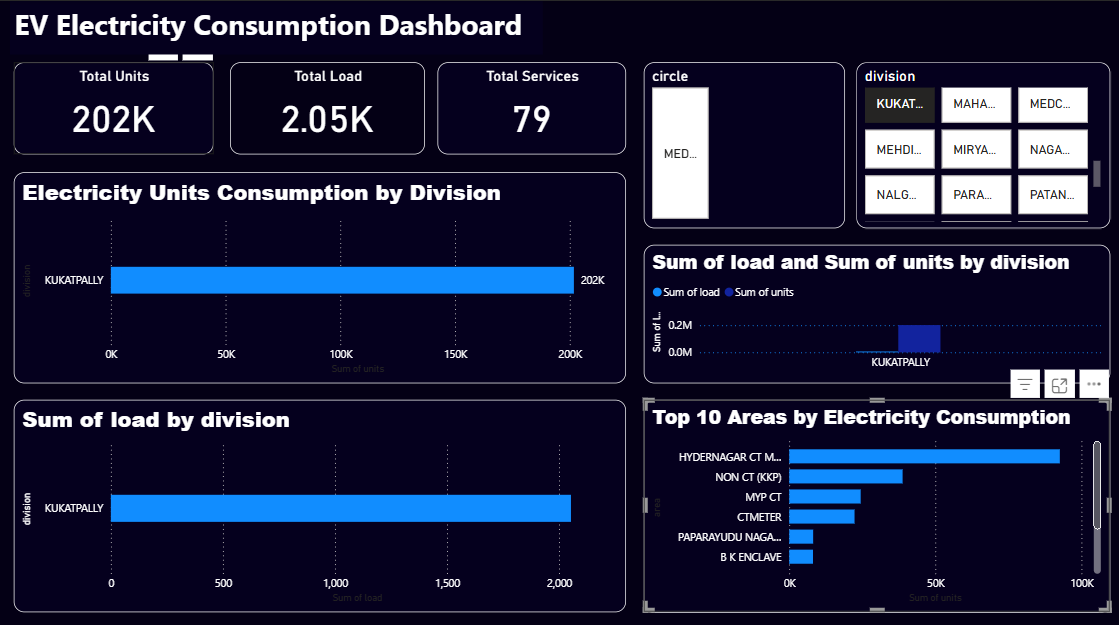

The page's visual inventory and layout, read from the dashboard file:
{"tool":"powerbi","page":{"name":"Page 1","canvas":[1280,720],"ordinal":0},"visuals":[{"type":"clusteredBarChart","title":"Electricity Units Consumption by Division","fields":{"Category":["8months data.division"],"Y":["Sum(8months data.units)"]},"box":[21.3,194.7,696.3,240.1],"z":0},{"type":"card","title":"Total Units","fields":{"Values":["Sum(8months data.units)"]},"box":[21.3,69.6,227.4,105.2],"z":1000},{"type":"card","title":"Total Load","fields":{"Values":["Sum(8months data.load)"]},"box":[267.1,69.6,221.7,105.2],"z":2000},{"type":"card","title":"Total Services","fields":{"Values":["Sum(8months data.totservices)"]},"box":[503,69.6,214.6,105.2],"z":3000},{"type":"advancedSlicerVisual","fields":{"Values":["8months data.circle"]},"box":[737.5,69.6,228.8,189],"z":4000},{"type":"advancedSlicerVisual","fields":{"Values":["8months data.division"]},"box":[979,69.6,288.5,189],"z":5000},{"type":"textbox","box":[17.1,0,605.3,61.1],"z":6000},{"type":"clusteredBarChart","fields":{"Category":["8months data.division"],"Y":["Sum(8months data.load)"]},"box":[21.3,453.3,696.3,241.6],"z":7000},{"type":"clusteredColumnChart","fields":{"Category":["8months data.division"],"Y":["Sum(8months data.load)","Sum(8months data.units)"]},"box":[737.5,277.1,530,157.7],"z":8000},{"type":"clusteredBarChart","title":"Top 10 Areas by Electricity Consumption","fields":{"Category":["8months data.area"],"Y":["Sum(8months data.units)"]},"box":[737,453,530,242],"z":8001}]}

Visuals, with their boxes in screenshot pixels (x1, y1, x2, y2), scaled from the page's 1280x720 canvas onto the 1119x625 screenshot:
"Electricity Units Consumption by Division" clusteredBarChart: BBox(19, 169, 627, 377)
"Total Units" card: BBox(19, 60, 217, 152)
"Total Load" card: BBox(234, 60, 427, 152)
"Total Services" card: BBox(440, 60, 627, 152)
advancedSlicerVisual - 8months data.circle: BBox(645, 60, 845, 224)
advancedSlicerVisual - 8months data.division: BBox(856, 60, 1108, 224)
textbox: BBox(15, 0, 544, 53)
clusteredBarChart - 8months data.division x Sum(8months data.load): BBox(19, 393, 627, 603)
clusteredColumnChart - 8months data.division x Sum(8months data.load): BBox(645, 241, 1108, 377)
"Top 10 Areas by Electricity Consumption" clusteredBarChart: BBox(644, 393, 1108, 603)
